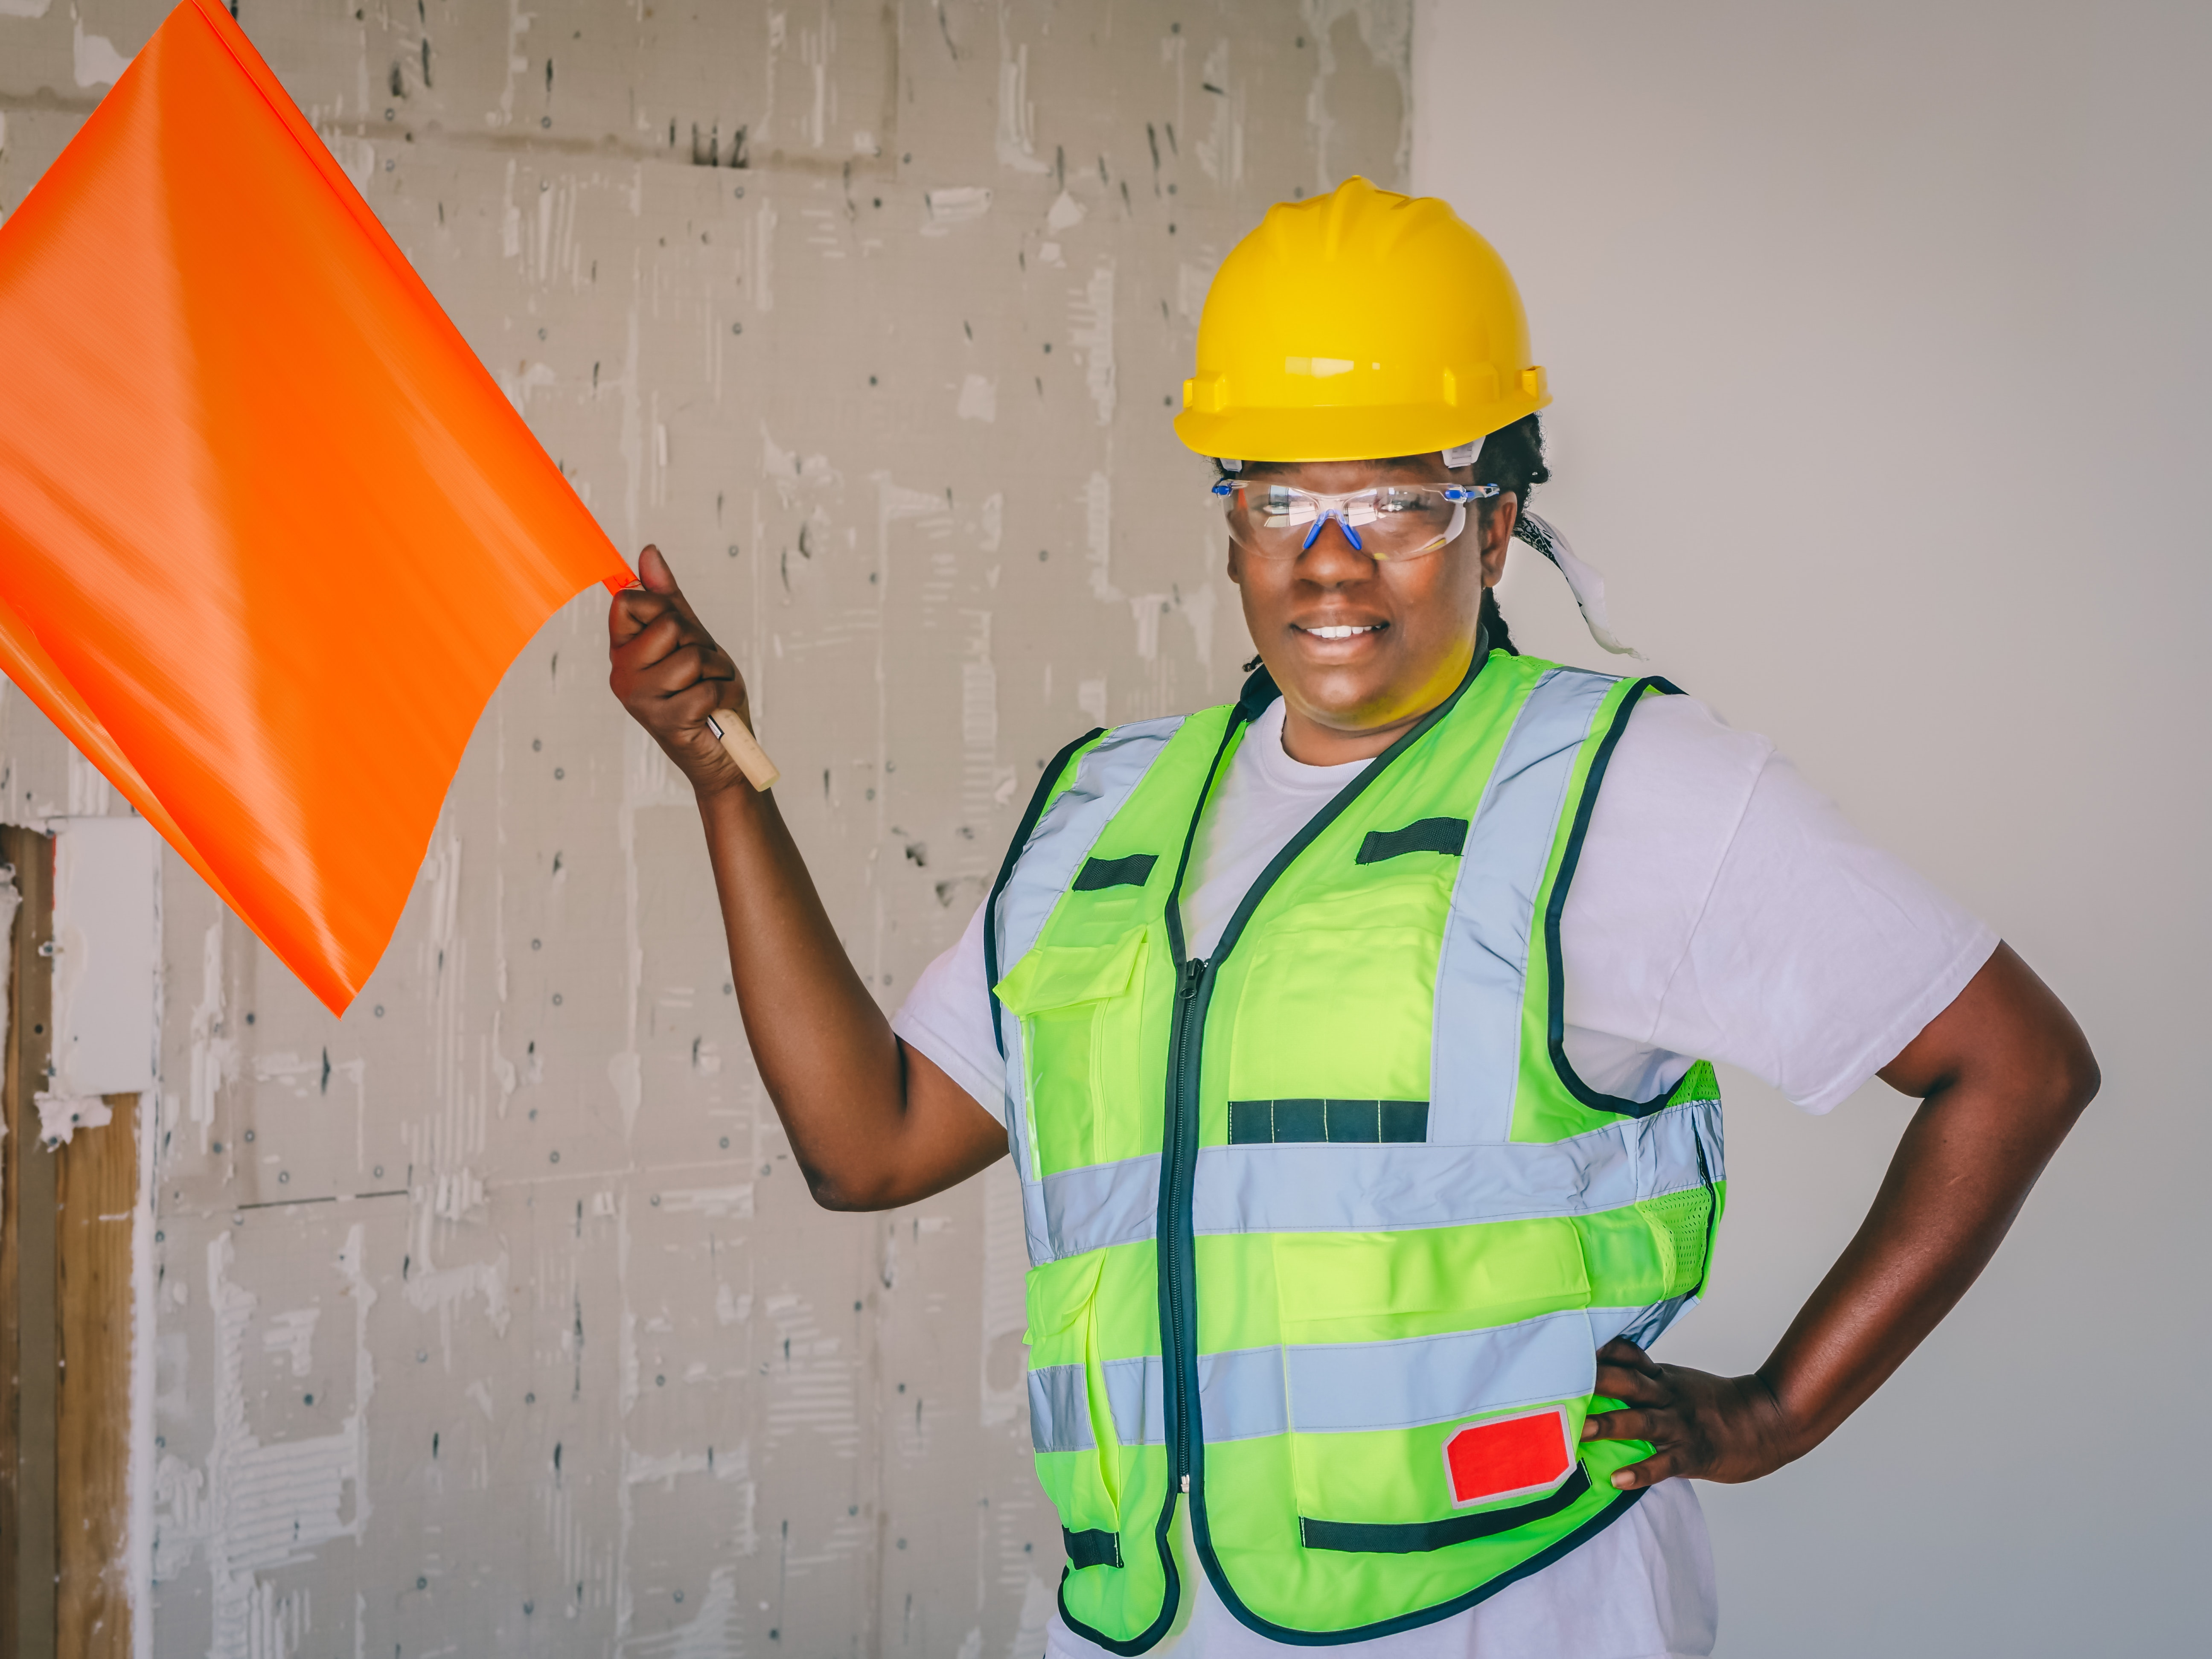Helmet: (1162, 171, 1575, 756)
Reflective vest: (984, 647, 1726, 1659)
